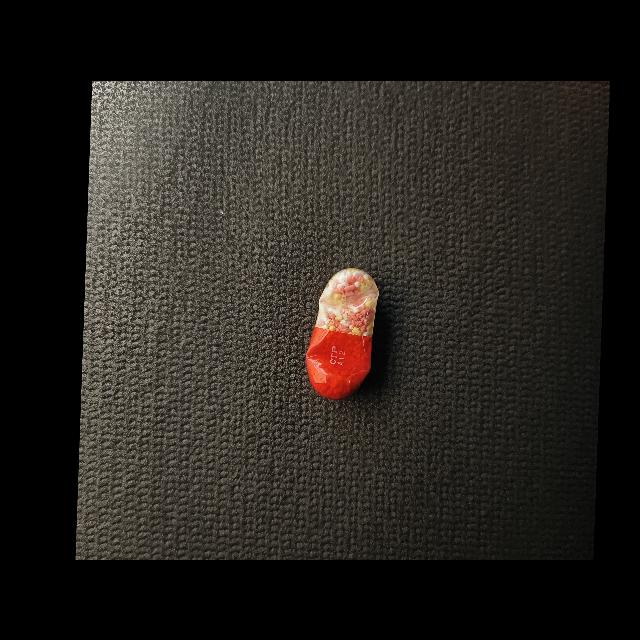Defective Capsule: (306, 267, 379, 399)
